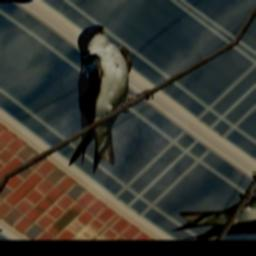Swallow: (0, 18, 193, 186)
